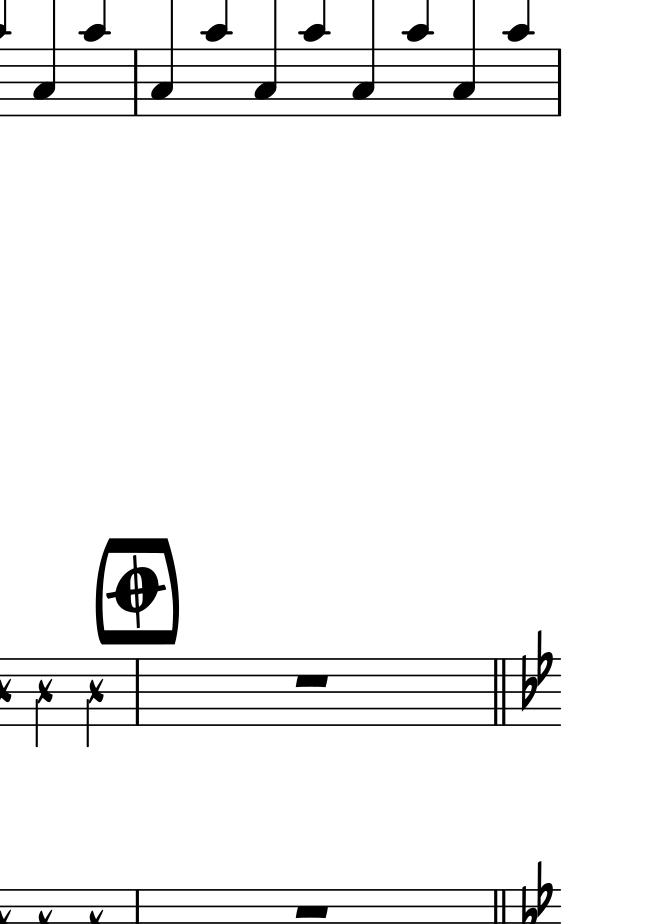B_F: (520, 626, 554, 714)
Coda: (109, 555, 165, 626)
Double_barline: (490, 658, 511, 726)
Rests1: (287, 901, 335, 924), (292, 670, 331, 691)
Single_barline: (549, 49, 568, 115), (128, 51, 145, 114), (129, 659, 144, 725)
